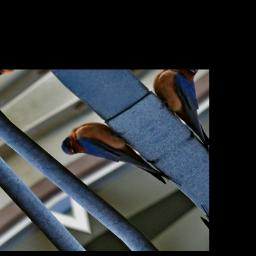Swallow: (53, 109, 183, 219)
